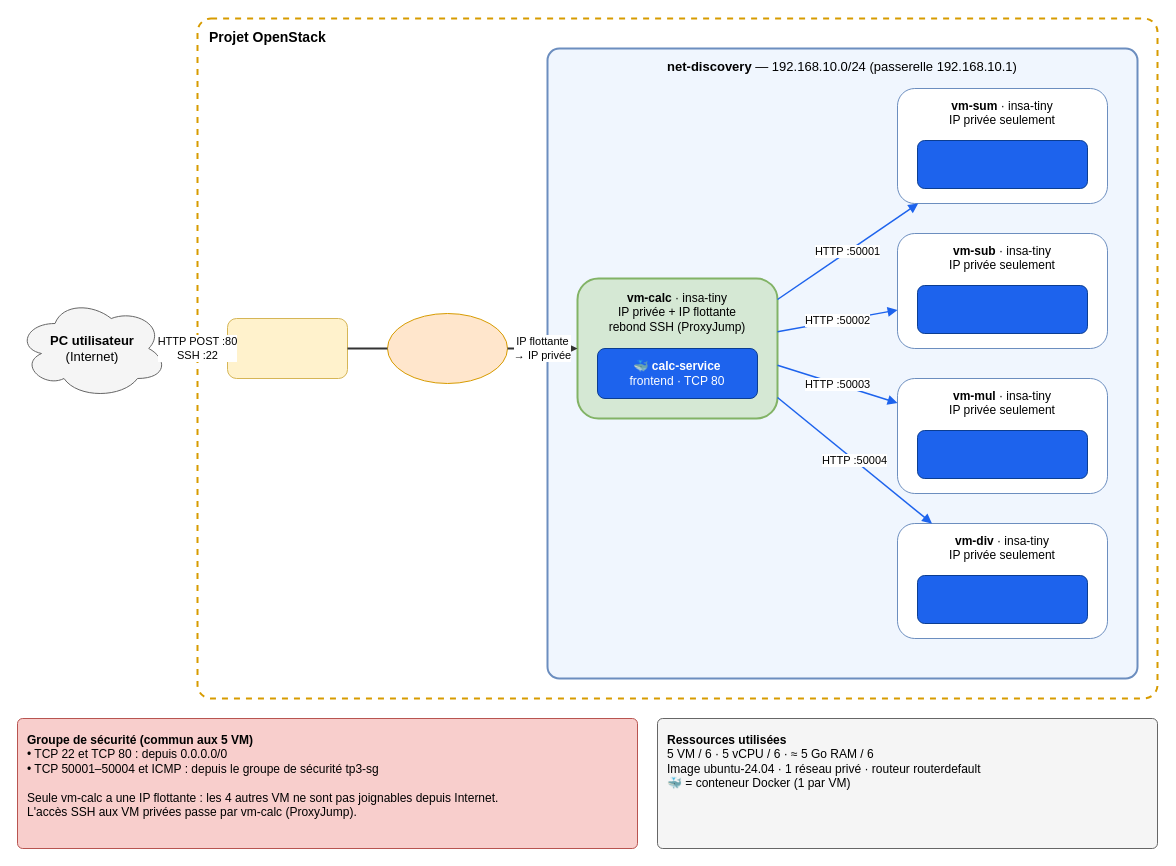
Image size: 1176x866. Some labels were removed from this diagram. The shapes that lost their labels are listed below. From the top down, each one's centre as x and y in pixels, then its label:
At (1002,164): "🐳 sum-service addition · TCP 50001".
At (1002,309): "🐳 sub-service soustraction · TCP 50002".
At (287,348): "vpn-external réseau public".
At (447,348): "routerdefault".
At (1002,454): "🐳 mul-service multiplication · TCP 50003".
At (1002,599): "🐳 div-service division · TCP 50004".
